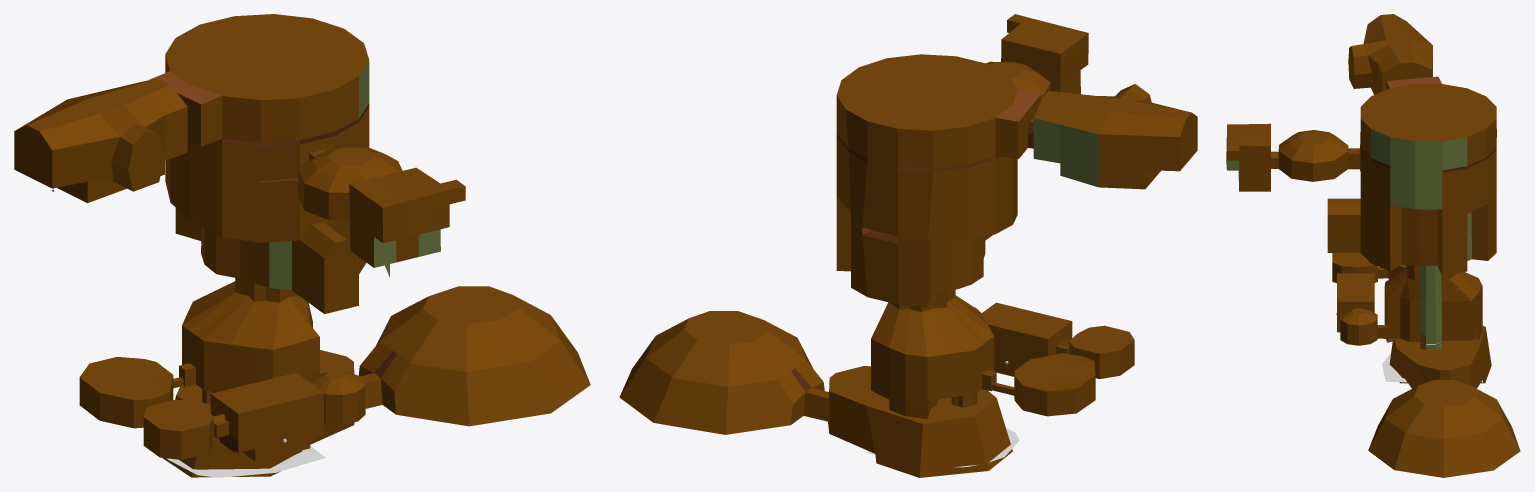
File: Inside_the_deku_tree_v3.fbx
3 renders of one model, left to right at view 1: azimuth 30°, elevation 25°; view 2: azimuth 150°, elevation 25°; view 3: azimuth 270°, elevation 25°, orthographic. The views are drawn at different scales.
Visible parts, largest first — view 1: Chão, Escalável, H2O B2; view 2: Chão; view 3: Chão, Escalável, H2O B2.
Boxes of the visible parts, box(x1,y1,x2,y2) form: Chão: box(14, 14, 590, 477); Escalável: box(269, 229, 440, 290); H2O B2: box(167, 446, 325, 477); Chão: box(619, 14, 1197, 477); Chão: box(1226, 14, 1520, 477); Escalável: box(1227, 137, 1471, 349); H2O B2: box(1382, 352, 1482, 382).
Bounding box in the file's own units: 54949 × 36195 × 34955.
